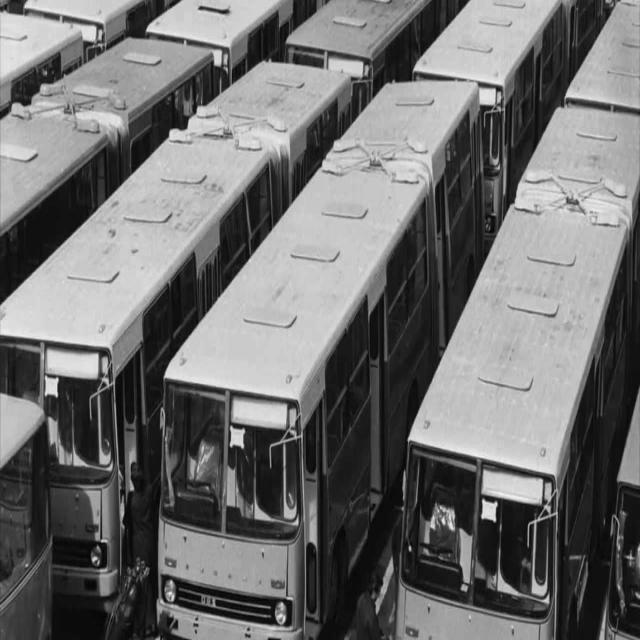bus: (156, 79, 478, 639), (0, 332, 127, 608)
